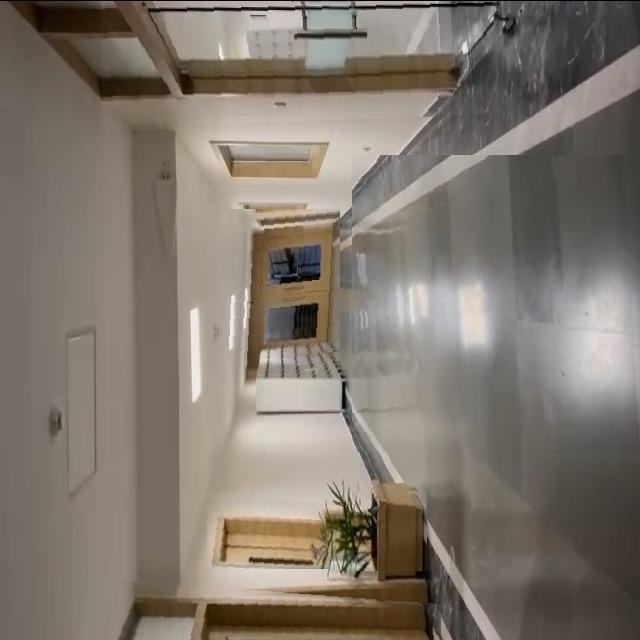door: (101, 0, 510, 128), (118, 579, 443, 640), (219, 208, 340, 362), (207, 490, 331, 568)
floor: (352, 154, 640, 461)
furniture: (319, 483, 427, 570)
